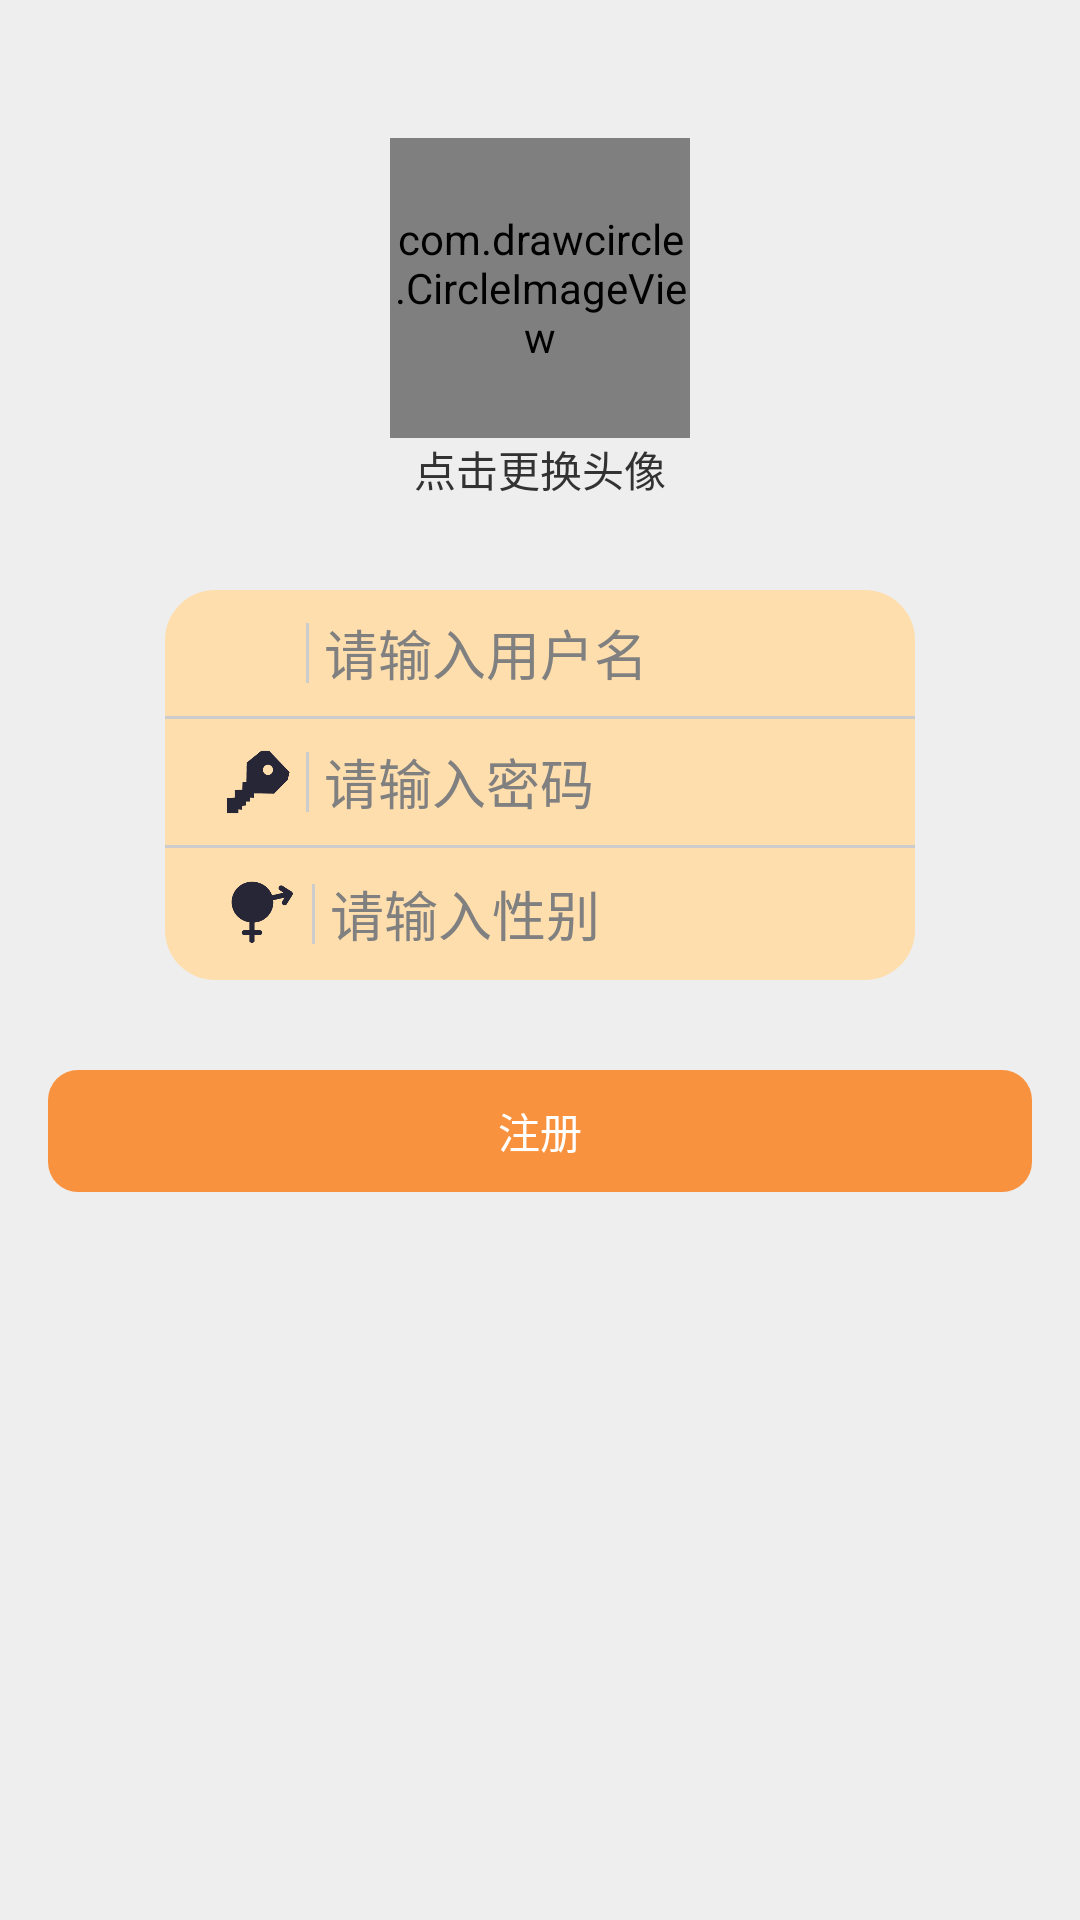

Point at icon controls on the screen. Image size 1080*1920, points as [x,y].
key: [258,782]
